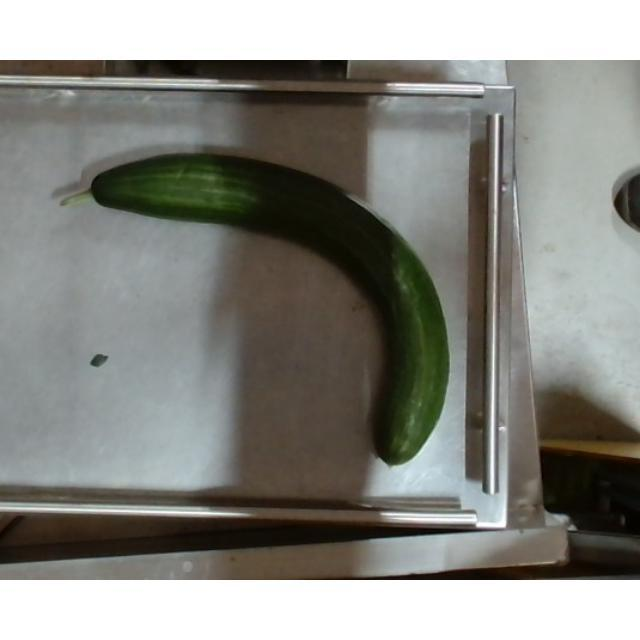cucumber: (59, 154, 452, 466)
